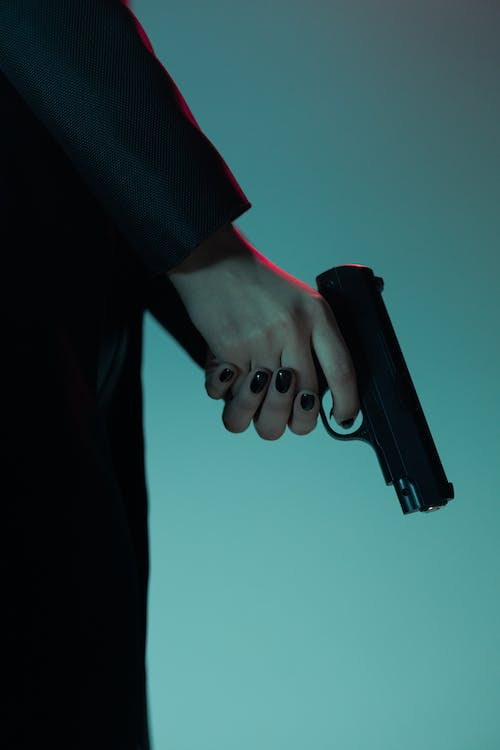gun: (308, 261, 457, 520)
